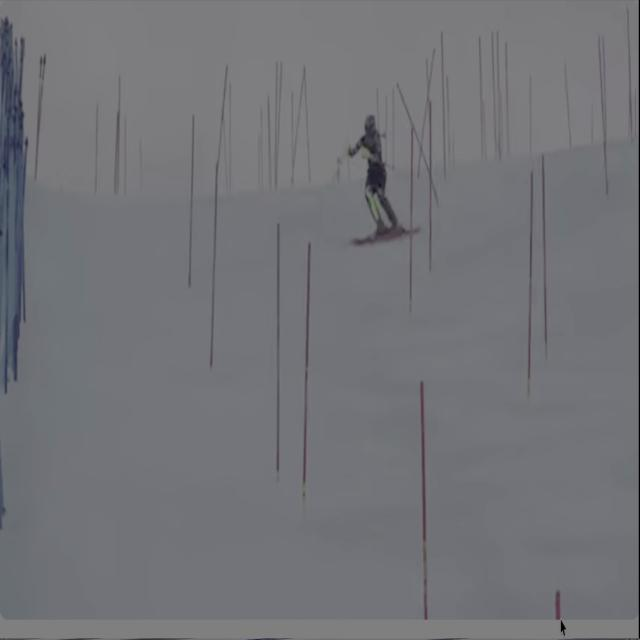gate: (295, 238, 317, 522), (413, 399, 436, 640), (532, 158, 555, 370), (524, 178, 541, 406), (204, 165, 221, 389), (183, 114, 201, 300), (274, 213, 286, 472), (404, 130, 418, 321), (424, 97, 435, 280)
